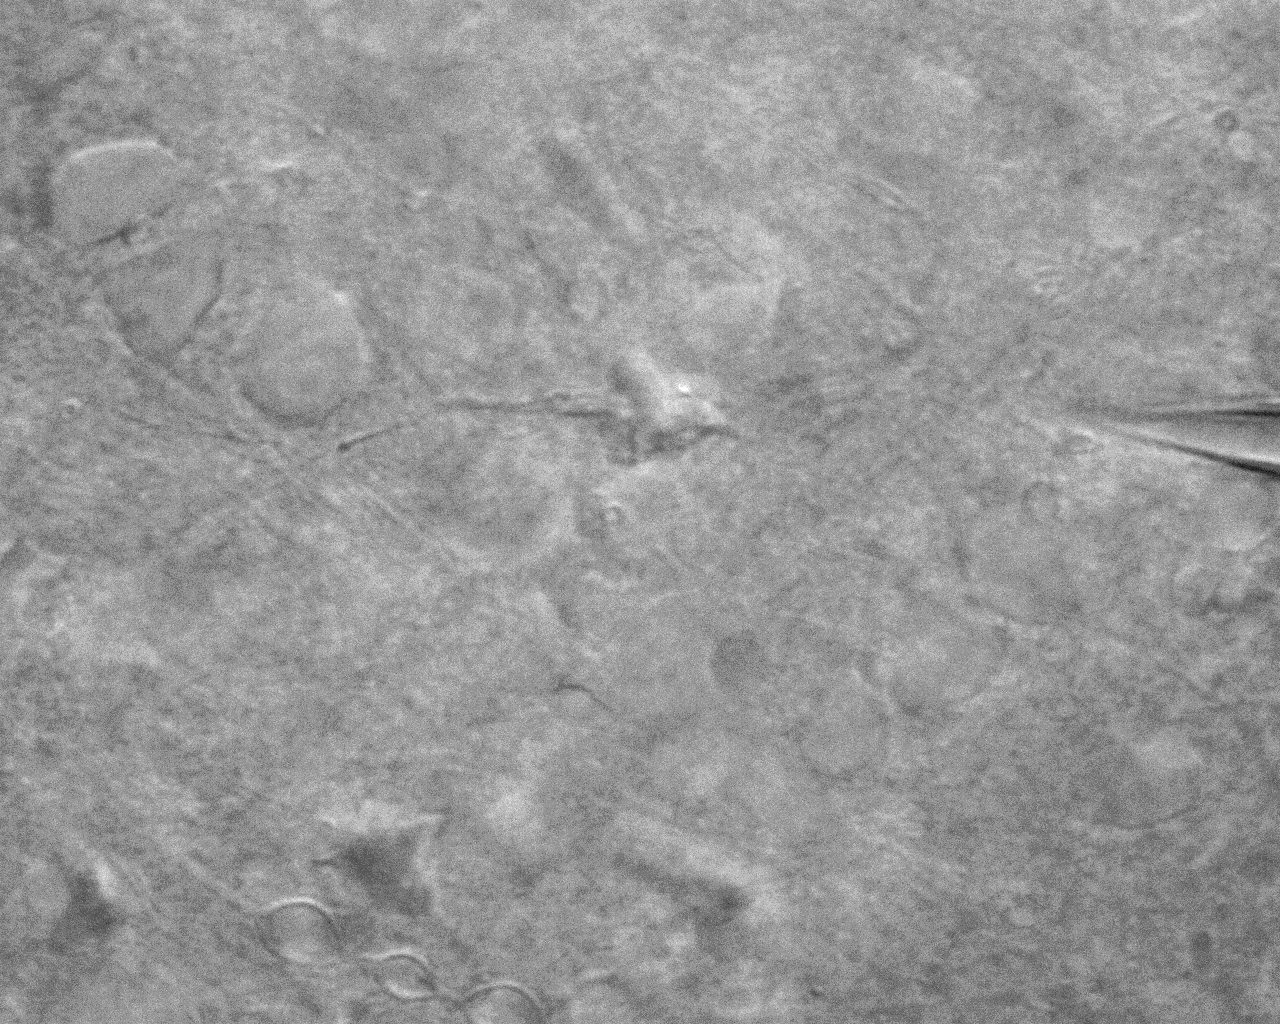neuron: (227, 253, 374, 440), (32, 126, 211, 254), (91, 226, 231, 374), (884, 616, 1018, 727)
